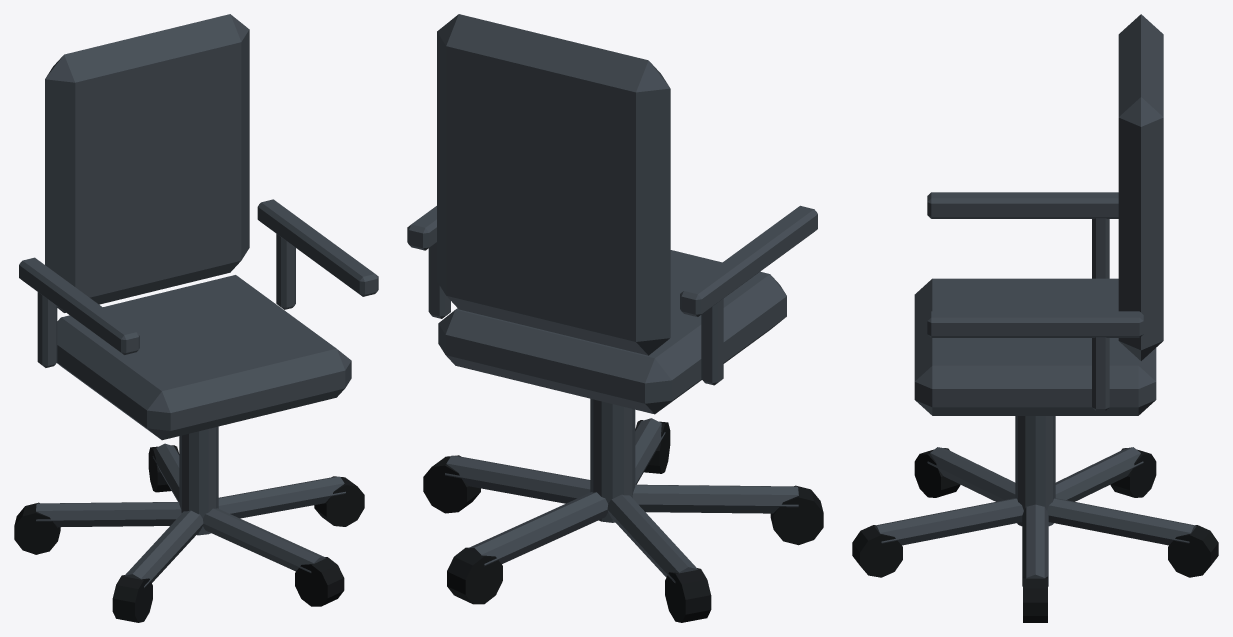
Rendered from OfficeChair.fbx.
3 renders of one model, left to right at view 1: azimuth 30°, elevation 25°; view 2: azimuth 150°, elevation 25°; view 3: azimuth 270°, elevation 25°, orthographic. The views are drawn at different scales.
Visible parts, largest first — view 1: OfficeChair; view 2: OfficeChair; view 3: OfficeChair.
Part boxes in pixels (x1,y1,x2,y2): OfficeChair: (14, 14, 378, 622); OfficeChair: (407, 14, 823, 622); OfficeChair: (852, 14, 1218, 622).
Size of the model in its own units: 69.25 by 109 by 72.82.
1 material, 1 textured.
